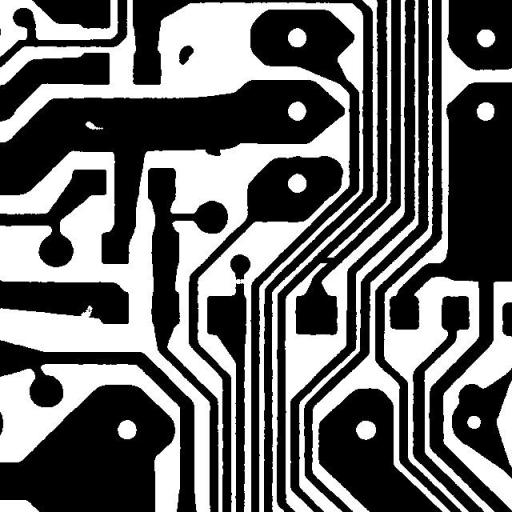copper: (171, 38, 201, 72)
mousebite: (73, 298, 100, 324)
open: (225, 270, 253, 291)
pin-hole: (78, 114, 110, 136)
short: (310, 250, 342, 270)
spur: (198, 137, 228, 163)
